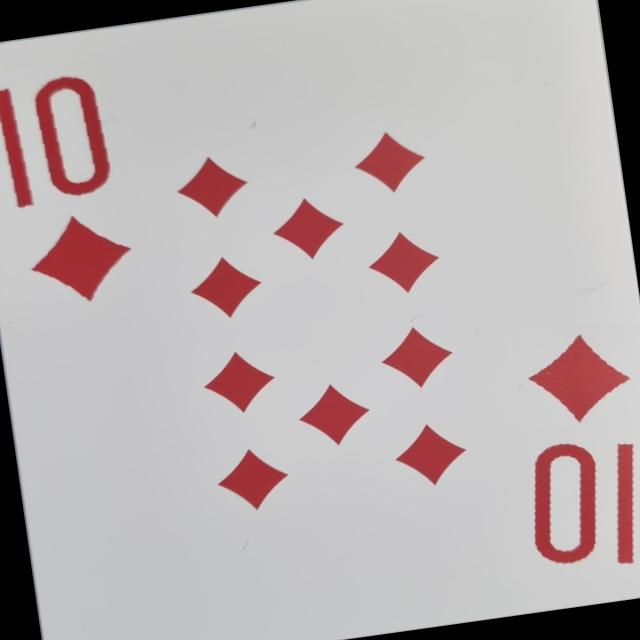Td: (488, 310, 640, 591), (0, 56, 155, 326)
